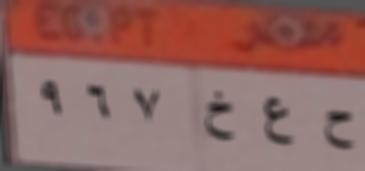6: (77, 78, 116, 125)
7: (130, 85, 162, 129)
7aa: (320, 101, 355, 159)
9: (36, 77, 66, 117)
ain: (257, 90, 297, 150)
khaa: (201, 83, 237, 149)
